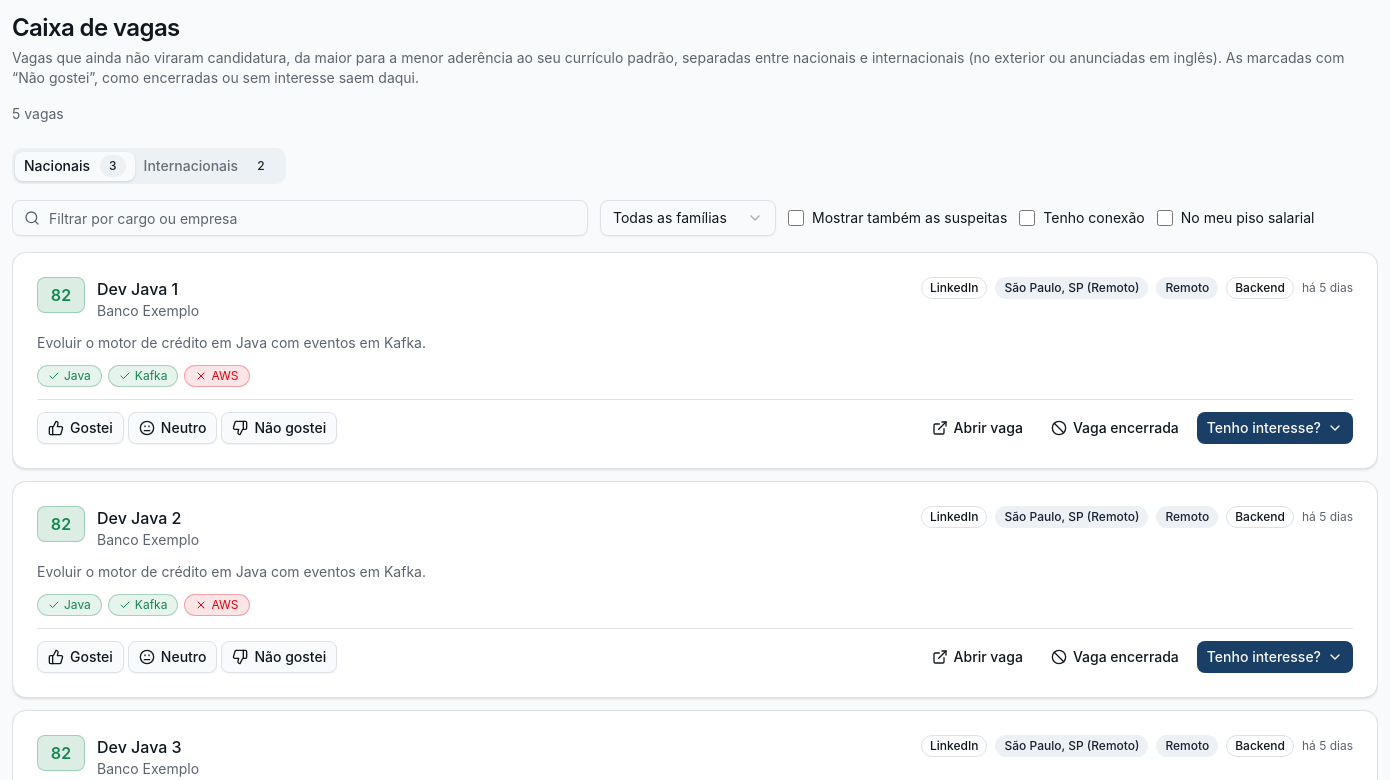
it: InboxPage › seções nacionais e internacionais › troca para as internacionais voltando para a primeira página
Click the tab "Internacionais 2": x=209, y=166 top-left (135, 152), bottom-right (283, 180)
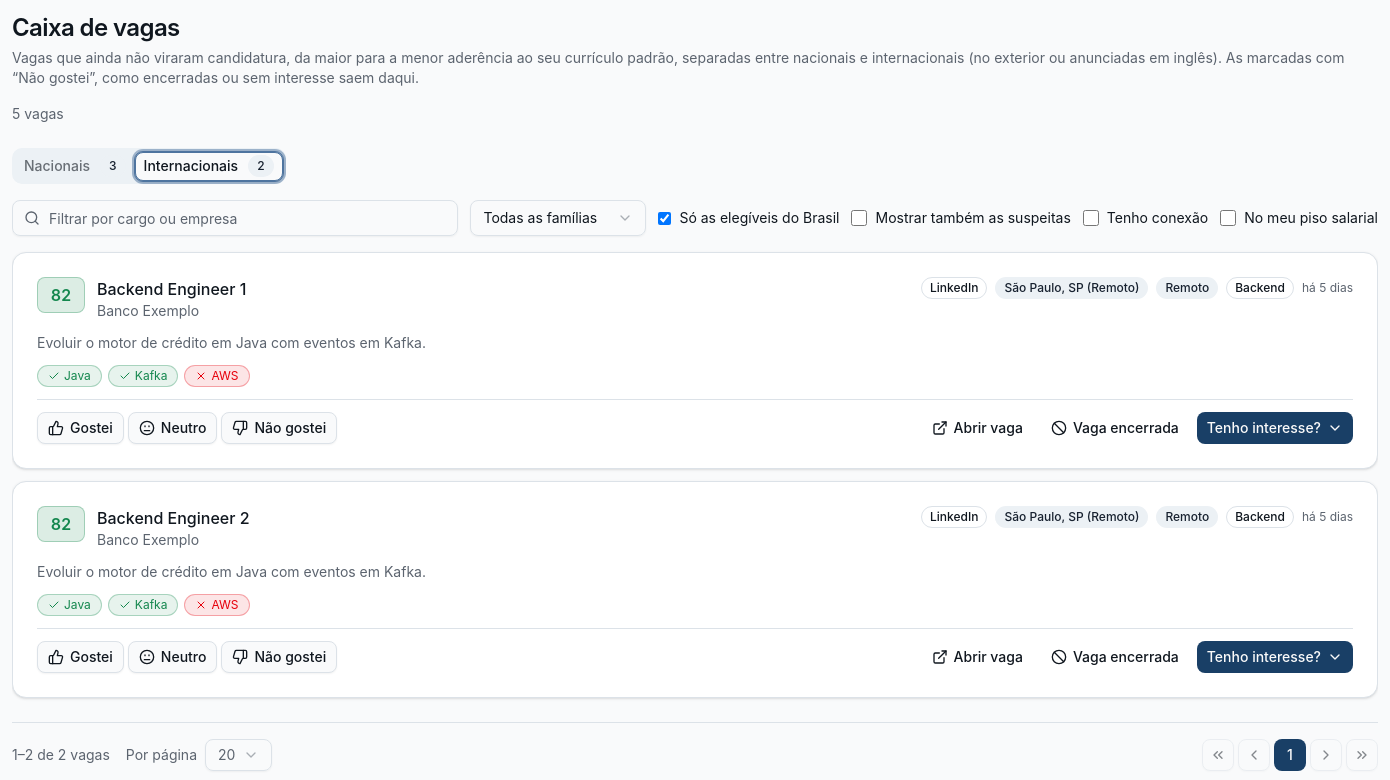
Result: the link "Backend Engineer 1" is shown at top-left (97, 279), bottom-right (246, 299)
